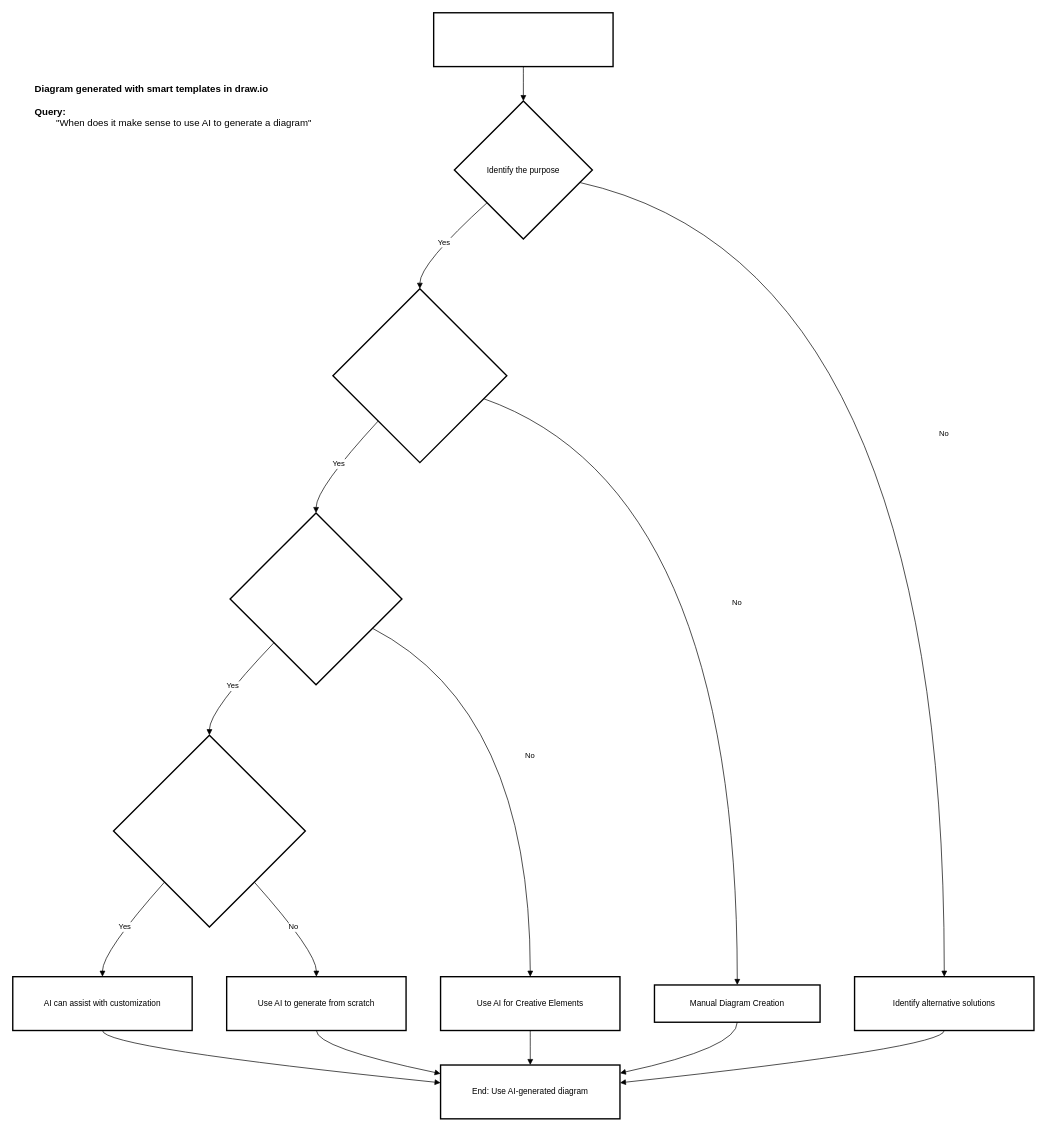
Some shapes in this 1046 by 1131 pixel diagram are drawn without their labels. Each missing label, with the centre of its shape:
Are there predefined templates?: the point at 209,830
Is it for a complex concept?: the point at 419,375
Is the concept data-driven?: the point at 315,598
Start: Need to generate a diagram?: the point at 523,39
